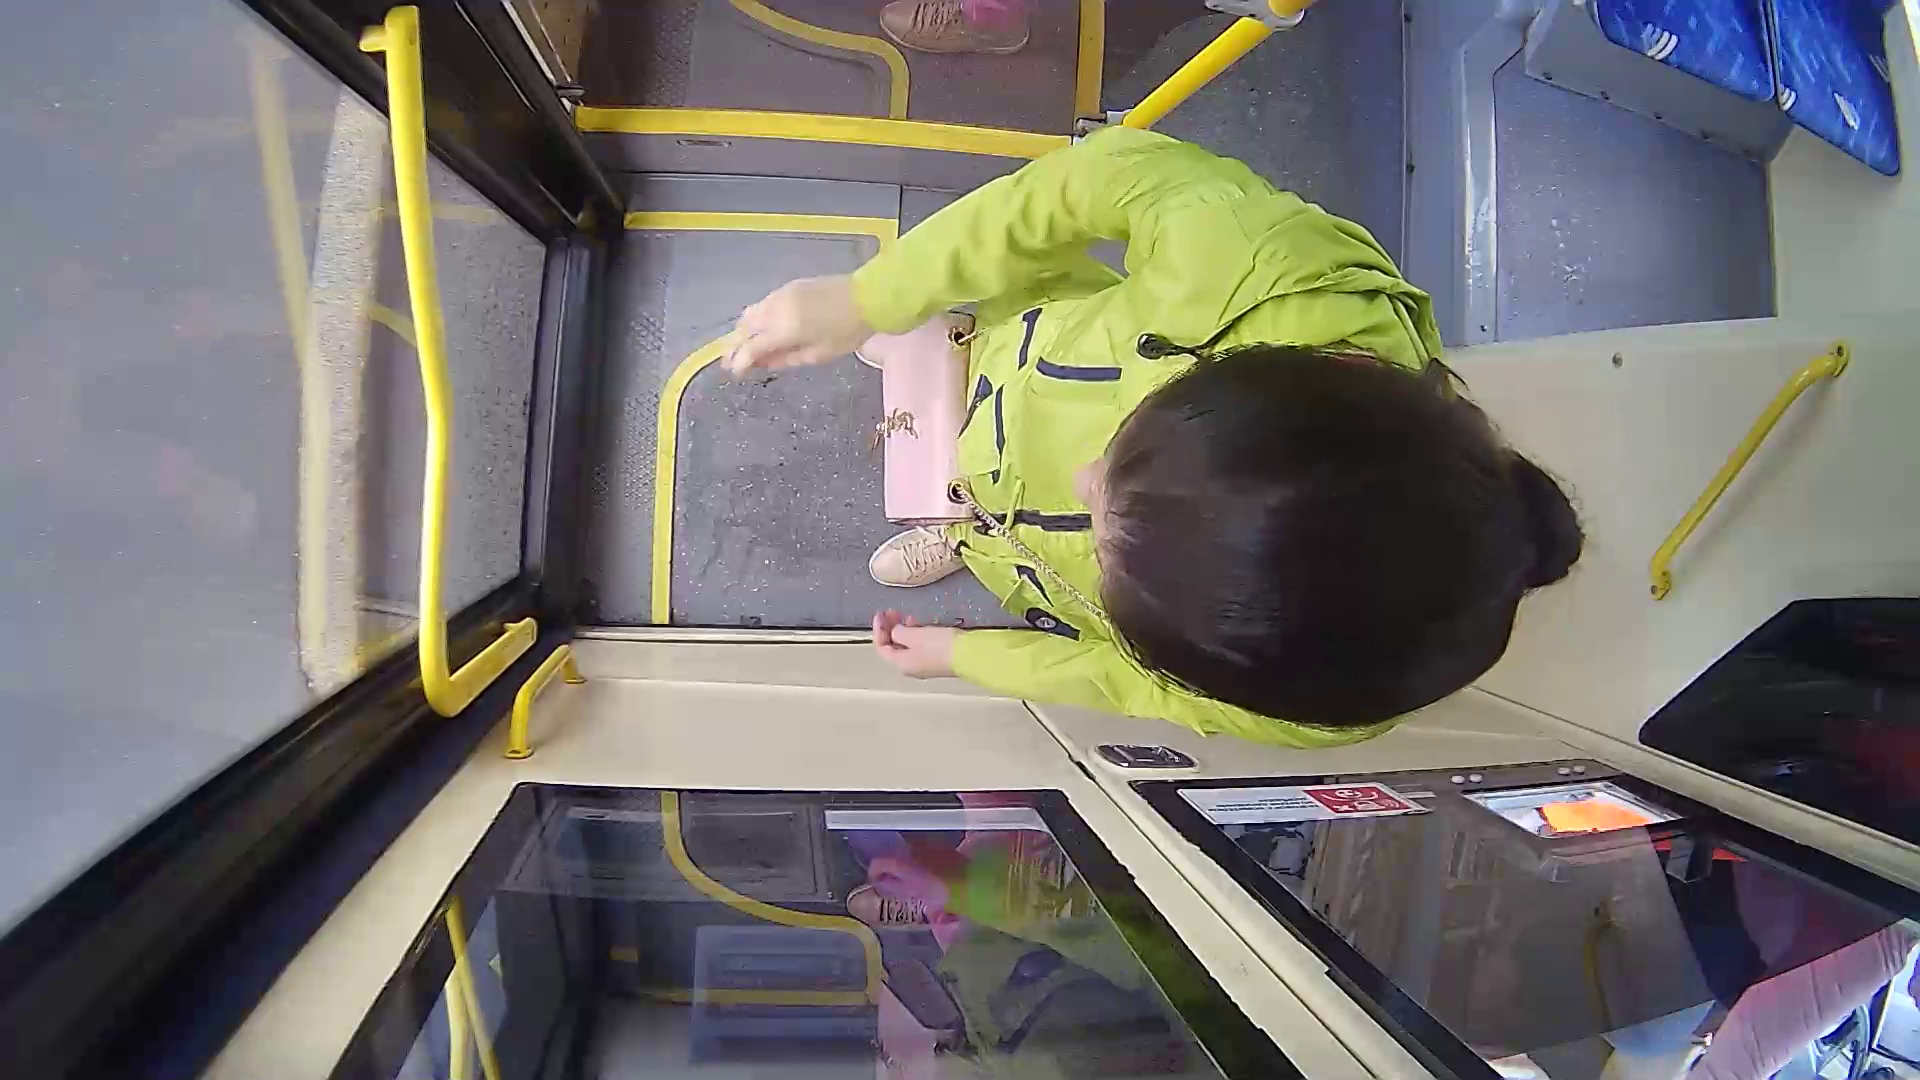person: (727, 155, 1584, 759)
